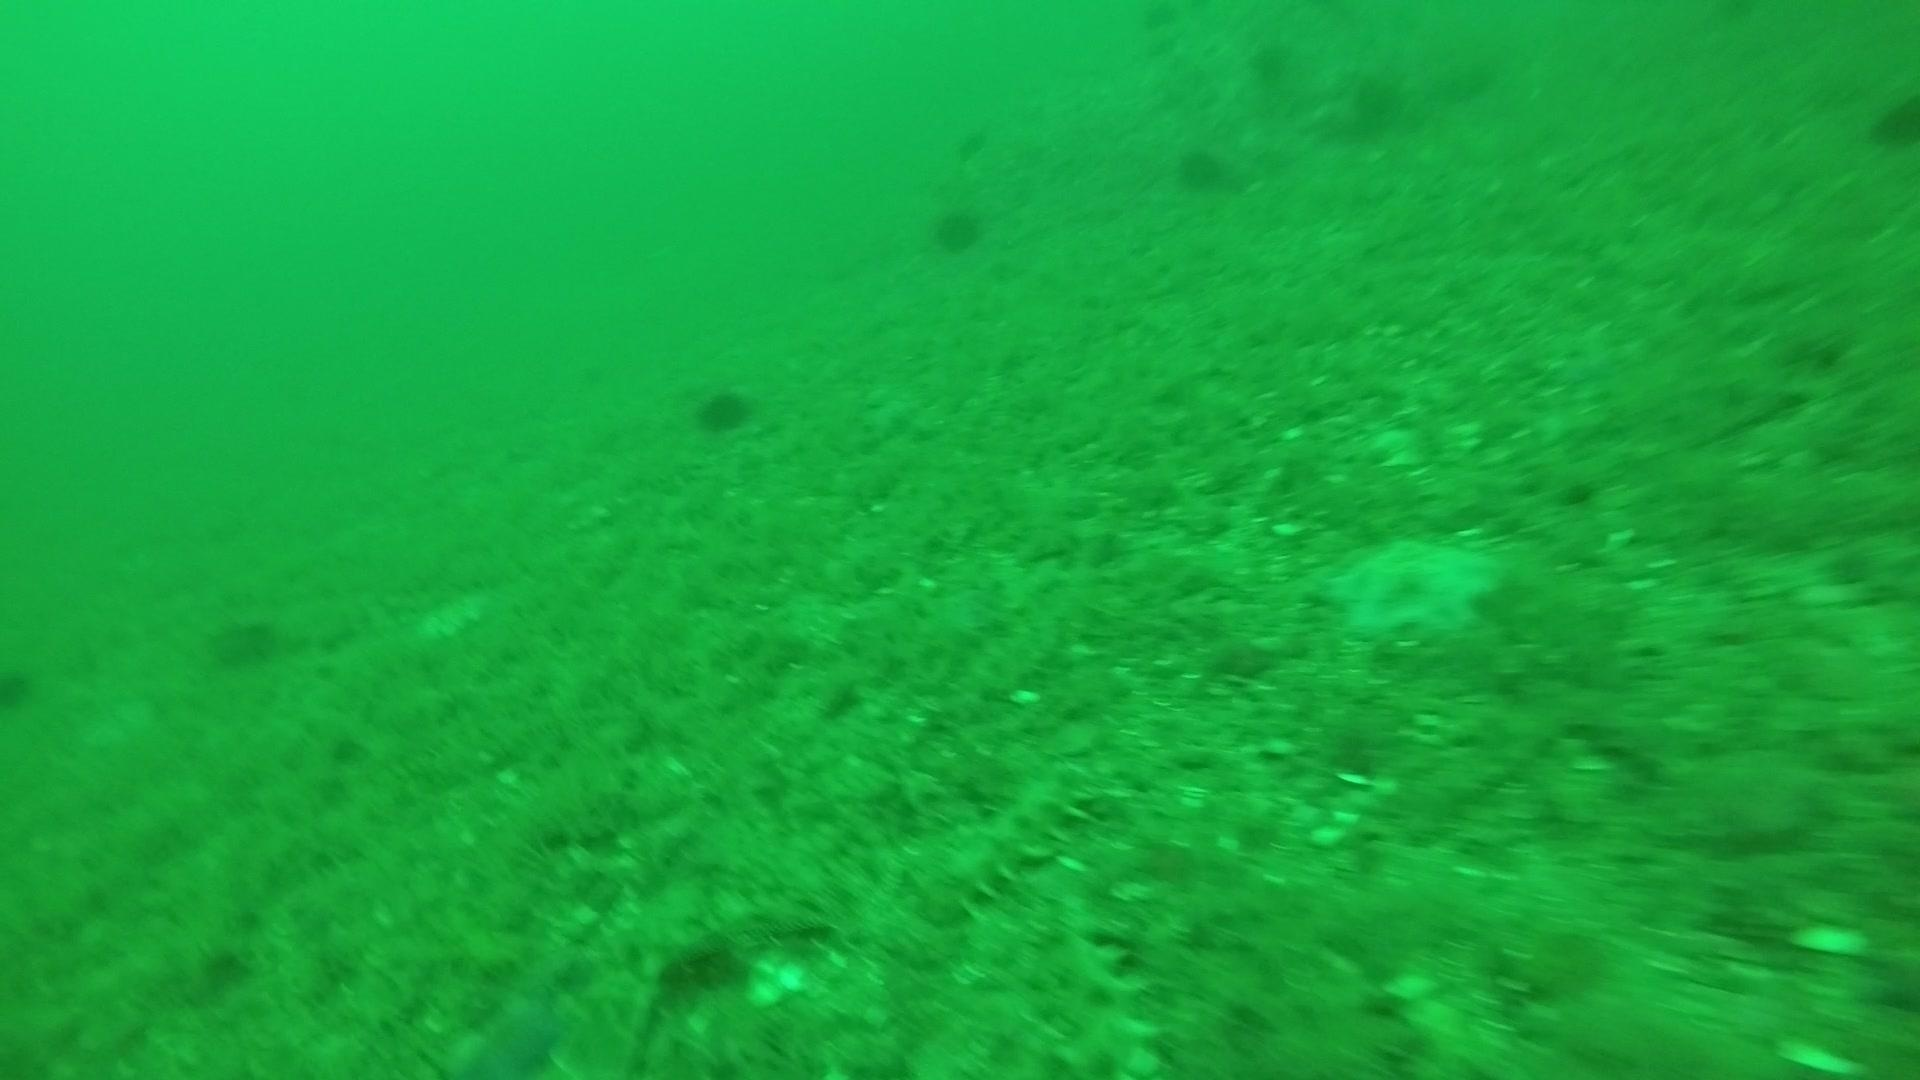echinus: (1333, 65, 1414, 142), (203, 607, 285, 673), (690, 378, 760, 438), (1168, 138, 1238, 198), (1865, 86, 1920, 156), (924, 199, 986, 258), (949, 115, 1011, 174), (1130, 1, 1197, 47), (1240, 36, 1305, 82), (1, 655, 40, 717)
holothurian: (906, 760, 1108, 924), (1014, 916, 1216, 1080), (454, 767, 622, 945)
starfish: (1311, 521, 1514, 647), (450, 981, 570, 1077)
